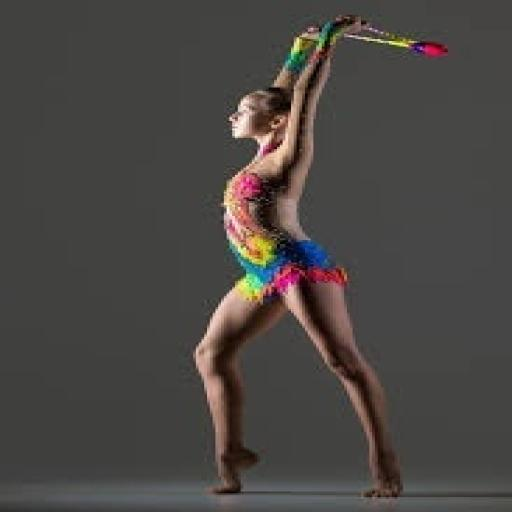dancing: (188, 13, 408, 501)
